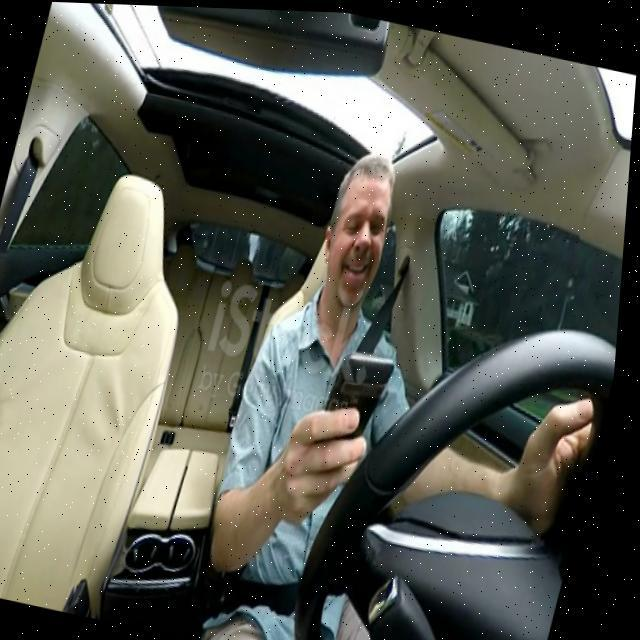PhoneCall: (318, 344, 402, 460)
